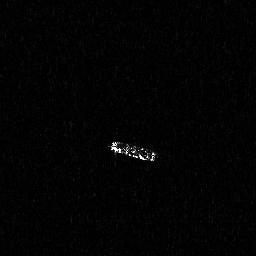ship: (106, 139, 160, 163)
